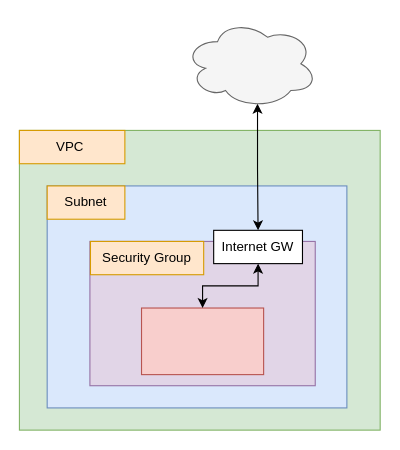
The diagram is 400 pixels wide and 450 high, and some of its shapes have lost their labels. The centre of each missing label's shape, as x and y in pixels:
Internet: point (250, 63)
Ubuntu 18 EC2 (Running Apache): point (202, 341)
